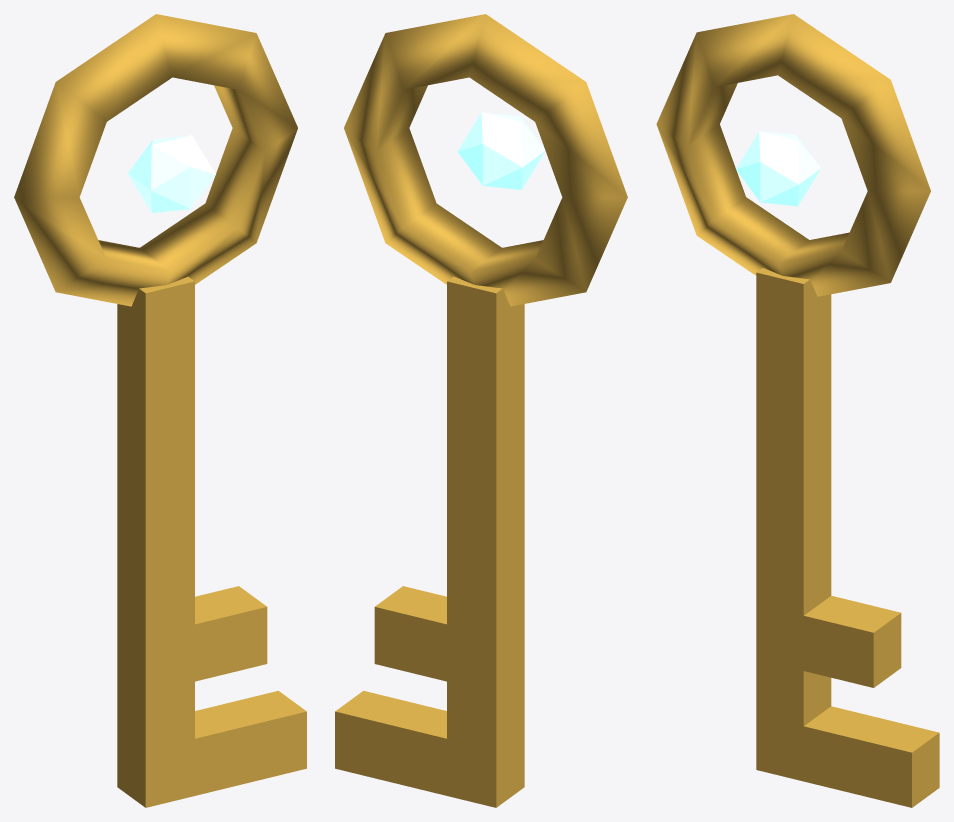
The model's file is key.glb.
3 renders of one model, left to right at view 1: azimuth 30°, elevation 25°; view 2: azimuth 150°, elevation 25°; view 3: azimuth 330°, elevation 25°, orthographic. The views are drawn at different scales.
Visible parts, largest first — view 1: item_keyGold, item_keyGem; view 2: item_keyGold, item_keyGem; view 3: item_keyGold, item_keyGem.
Part boxes in pixels (box(x1,y1,x2,y2)): item_keyGold: box(14, 14, 306, 807); item_keyGem: box(128, 135, 215, 212); item_keyGold: box(335, 14, 627, 807); item_keyGem: box(457, 112, 545, 189); item_keyGold: box(656, 14, 939, 807); item_keyGem: box(736, 131, 820, 206).
Size of the model in its own units: 0.1456 by 0.3808 by 0.0452.
